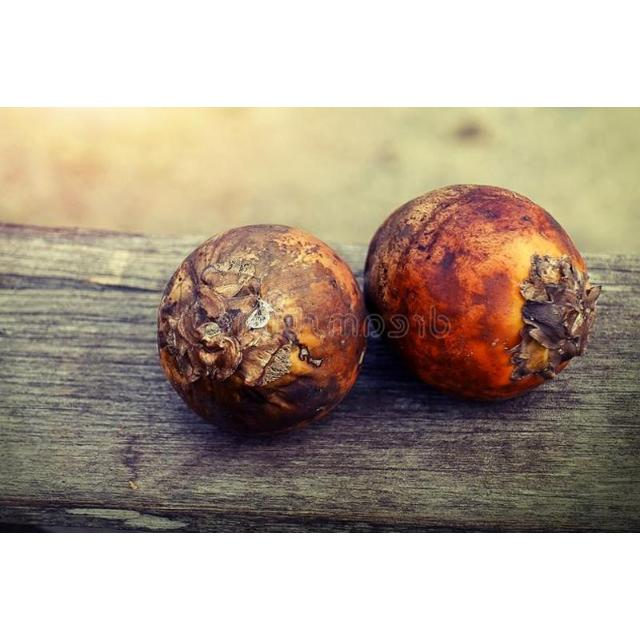damaged: (363, 185, 601, 405), (157, 225, 368, 435)
